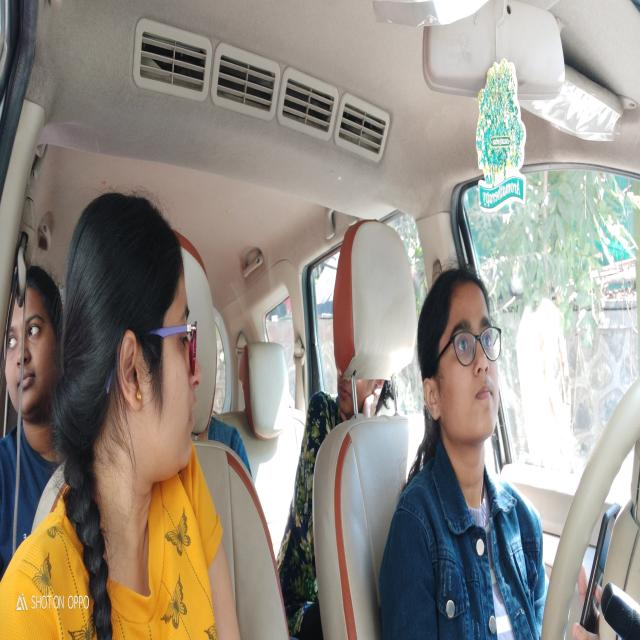LeftRight: (416, 266, 503, 458)
person: (69, 193, 204, 487), (1, 266, 64, 424), (336, 366, 383, 418)
